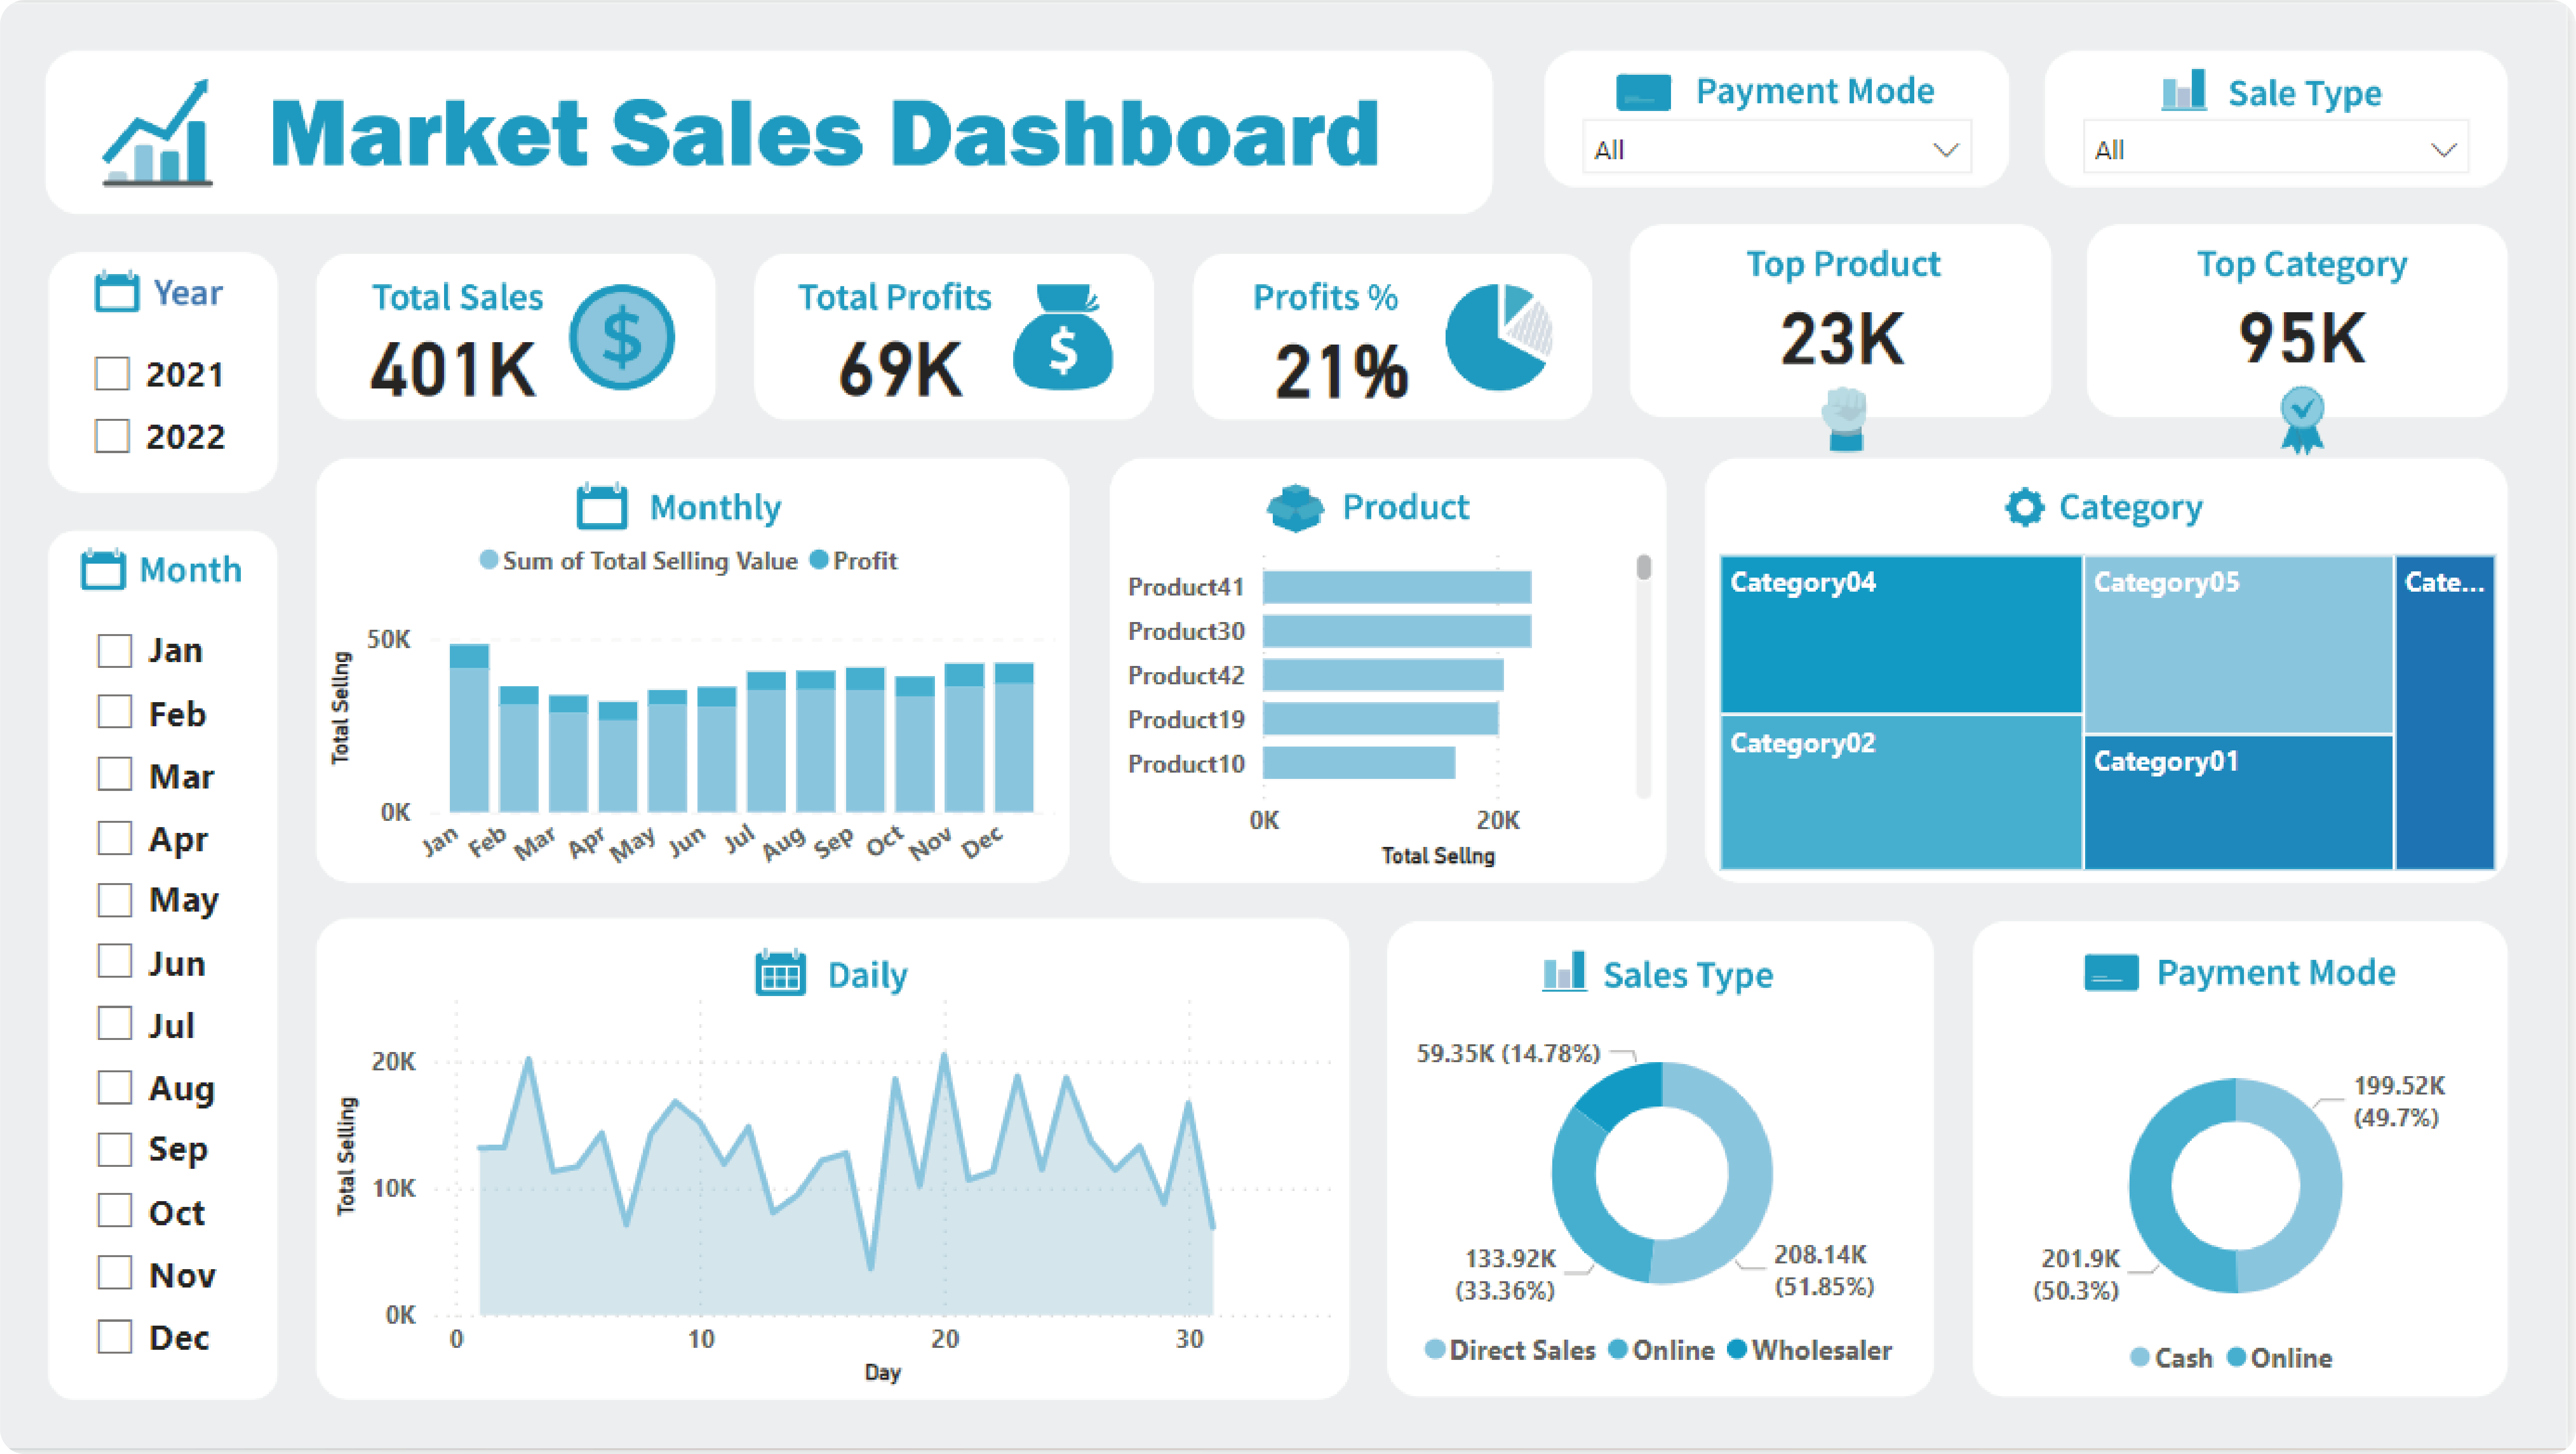

Layout of this report page (visuals, bound fields, positions):
{"tool":"powerbi","page":{"name":"Page 1","canvas":[1280,720],"ordinal":0},"visuals":[{"type":"slicer","fields":{"Values":["InputData.Year"]},"box":[37.5,163.8,90,75],"z":0},{"type":"slicer","fields":{"Values":["InputData.PAYMENT MODE"]},"box":[780,47.5,213.8,40],"z":1000},{"type":"slicer","fields":{"Values":["InputData.SALE TYPE"]},"box":[1028.8,47.5,212.5,38.8],"z":2000},{"type":"slicer","fields":{"Values":["InputData.Month Name"]},"box":[38.8,301.2,88.8,388.8],"z":3000},{"type":"card","fields":{"Values":["Sum(InputData.Total Selling Value)"]},"box":[162.5,153.8,131.2,50],"z":4000},{"type":"card","fields":{"Values":["Sum(InputData.Total Selling Value)"]},"box":[867.5,143.8,103.8,41.2],"z":5000},{"type":"card","fields":{"Values":["Sum(InputData.Total Selling Value)"]},"box":[1091.3,144,113.1,40.5],"z":6000},{"type":"card","fields":{"Values":["InputData.Profit"]},"box":[388.8,153.8,123.8,51.2],"z":9000},{"type":"card","fields":{"Values":["InputData.Profit %"]},"box":[601.2,155,138.8,50],"z":10000},{"type":"columnChart","fields":{"Y":["Sum(InputData.Total Selling Value)","InputData.Profit"],"Category":["InputData.Month"]},"box":[162.5,257.5,370,192.5],"z":11000},{"type":"clusteredBarChart","fields":{"Y":["Sum(InputData.Total Selling Value)"],"Category":["InputData.PRODUCT"]},"box":[557.5,261.2,272.5,173.8],"z":12000},{"type":"areaChart","fields":{"Y":["Sum(InputData.Total Selling Value)"],"Category":["InputData.Day"]},"box":[165,481.2,505,211.2],"z":13000},{"type":"donutChart","fields":{"Y":["Sum(InputData.Total Selling Value)"],"Category":["InputData.SALE TYPE"]},"box":[693.8,505,272.5,183.8],"z":14000},{"type":"donutChart","fields":{"Y":["Sum(InputData.Total Selling Value)"],"Series":["InputData.PAYMENT MODE"]},"box":[983.8,513.8,262.5,178.8],"z":15000},{"type":"treemap","fields":{"Group":["InputData.CATEGORY"],"Values":["Sum(InputData.Total Selling Value)"]},"box":[853.8,270,395,166.2],"z":16000}]}

Visuals, with their boxes in screenshot pixels (x1, y1, x2, y2), scaled from the page's 1280x720 canvas onto the 2576x1454 screenshot:
slicer - InputData.Year: 75, 331, 257, 482
slicer - InputData.PAYMENT MODE: 1570, 96, 2000, 177
slicer - InputData.SALE TYPE: 2071, 96, 2498, 174
slicer - InputData.Month Name: 78, 608, 257, 1393
card - Sum(InputData.Total Selling Value): 327, 311, 591, 412
card - Sum(InputData.Total Selling Value): 1746, 291, 1955, 374
card - Sum(InputData.Total Selling Value): 2196, 291, 2424, 373
card - InputData.Profit: 782, 311, 1031, 414
card - InputData.Profit %: 1210, 313, 1489, 414
columnChart - Sum(InputData.Total Selling Value) x InputData.Profit: 327, 520, 1072, 909
clusteredBarChart - Sum(InputData.Total Selling Value) x InputData.PRODUCT: 1122, 527, 1671, 878
areaChart - Sum(InputData.Total Selling Value) x InputData.Day: 332, 972, 1349, 1399
donutChart - Sum(InputData.Total Selling Value) x InputData.SALE TYPE: 1396, 1020, 1945, 1391
donutChart - Sum(InputData.Total Selling Value) x InputData.PAYMENT MODE: 1980, 1038, 2508, 1399
treemap - InputData.CATEGORY x Sum(InputData.Total Selling Value): 1718, 545, 2513, 881
